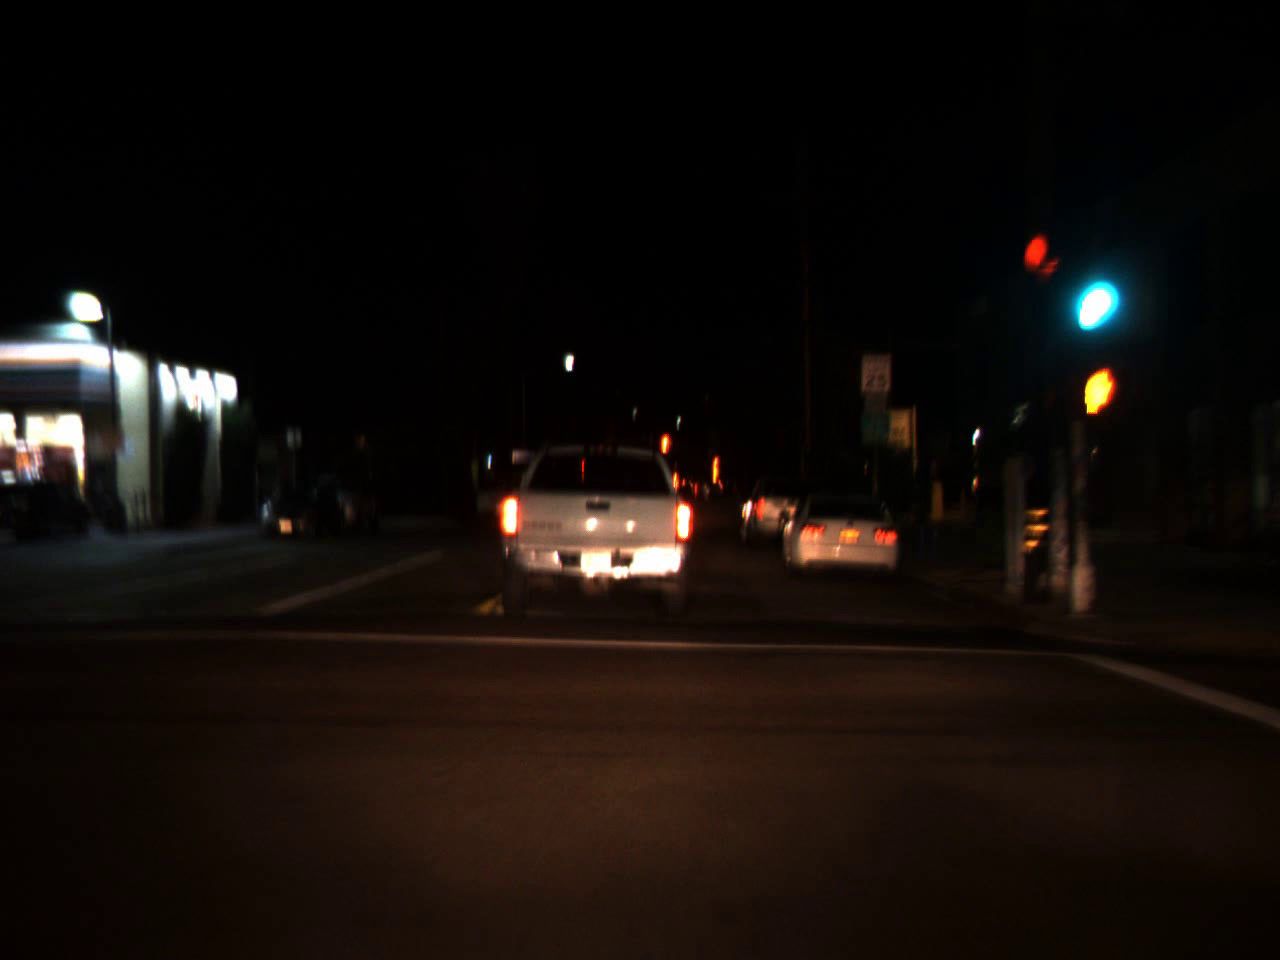go: (1063, 247, 1113, 334)
stop: (662, 433, 668, 473)
